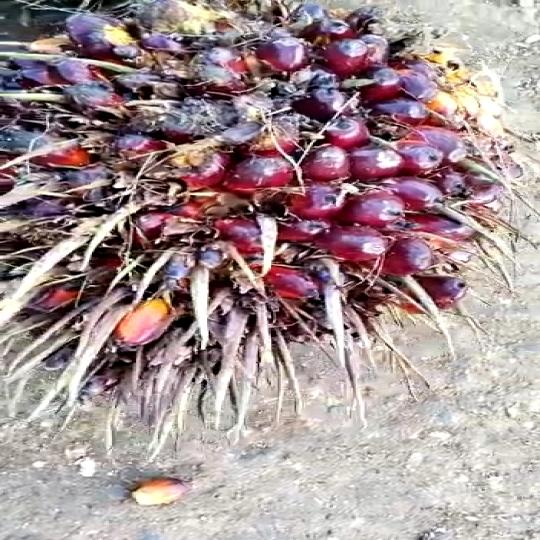masak: (0, 0, 500, 430)
